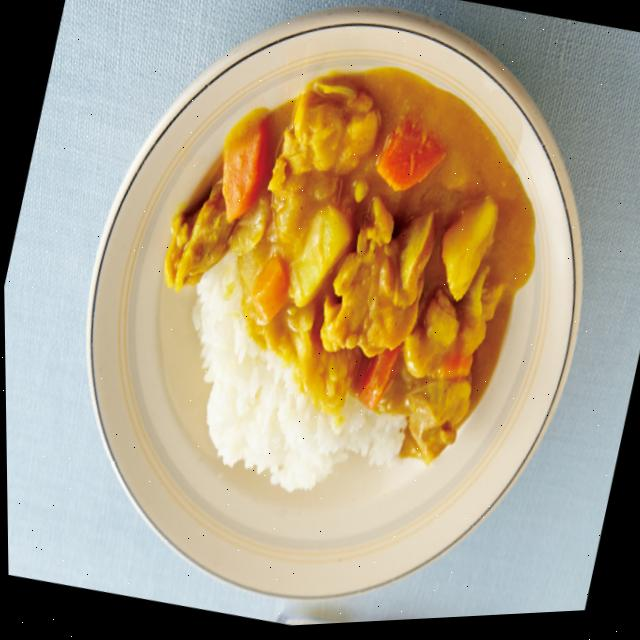Wet: (109, 22, 573, 551)
